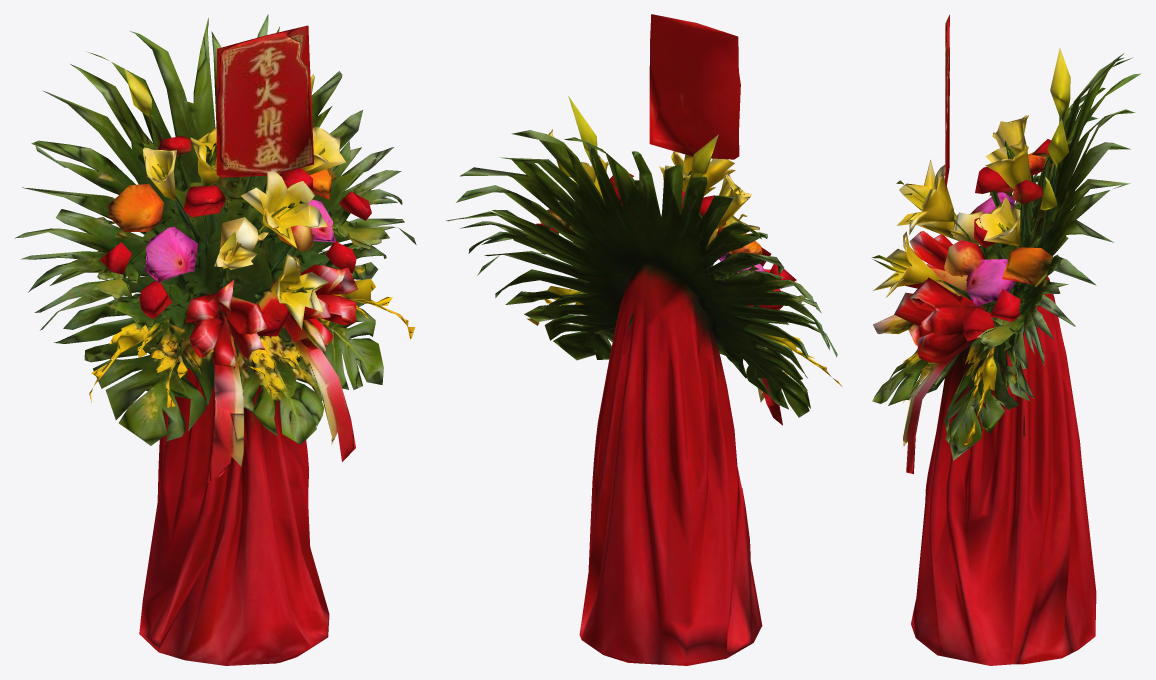
Rendered from huashu.glb.
The picture shows the model from 3 angles, left to right: view 1: azimuth 30°, elevation 25°; view 2: azimuth 150°, elevation 25°; view 3: azimuth 270°, elevation 25°; orthographic projection. The views are drawn at different scales.
Size of the model in its own units: 0.6566 by 0.9994 by 0.4124.
1 material, 1 textured.
